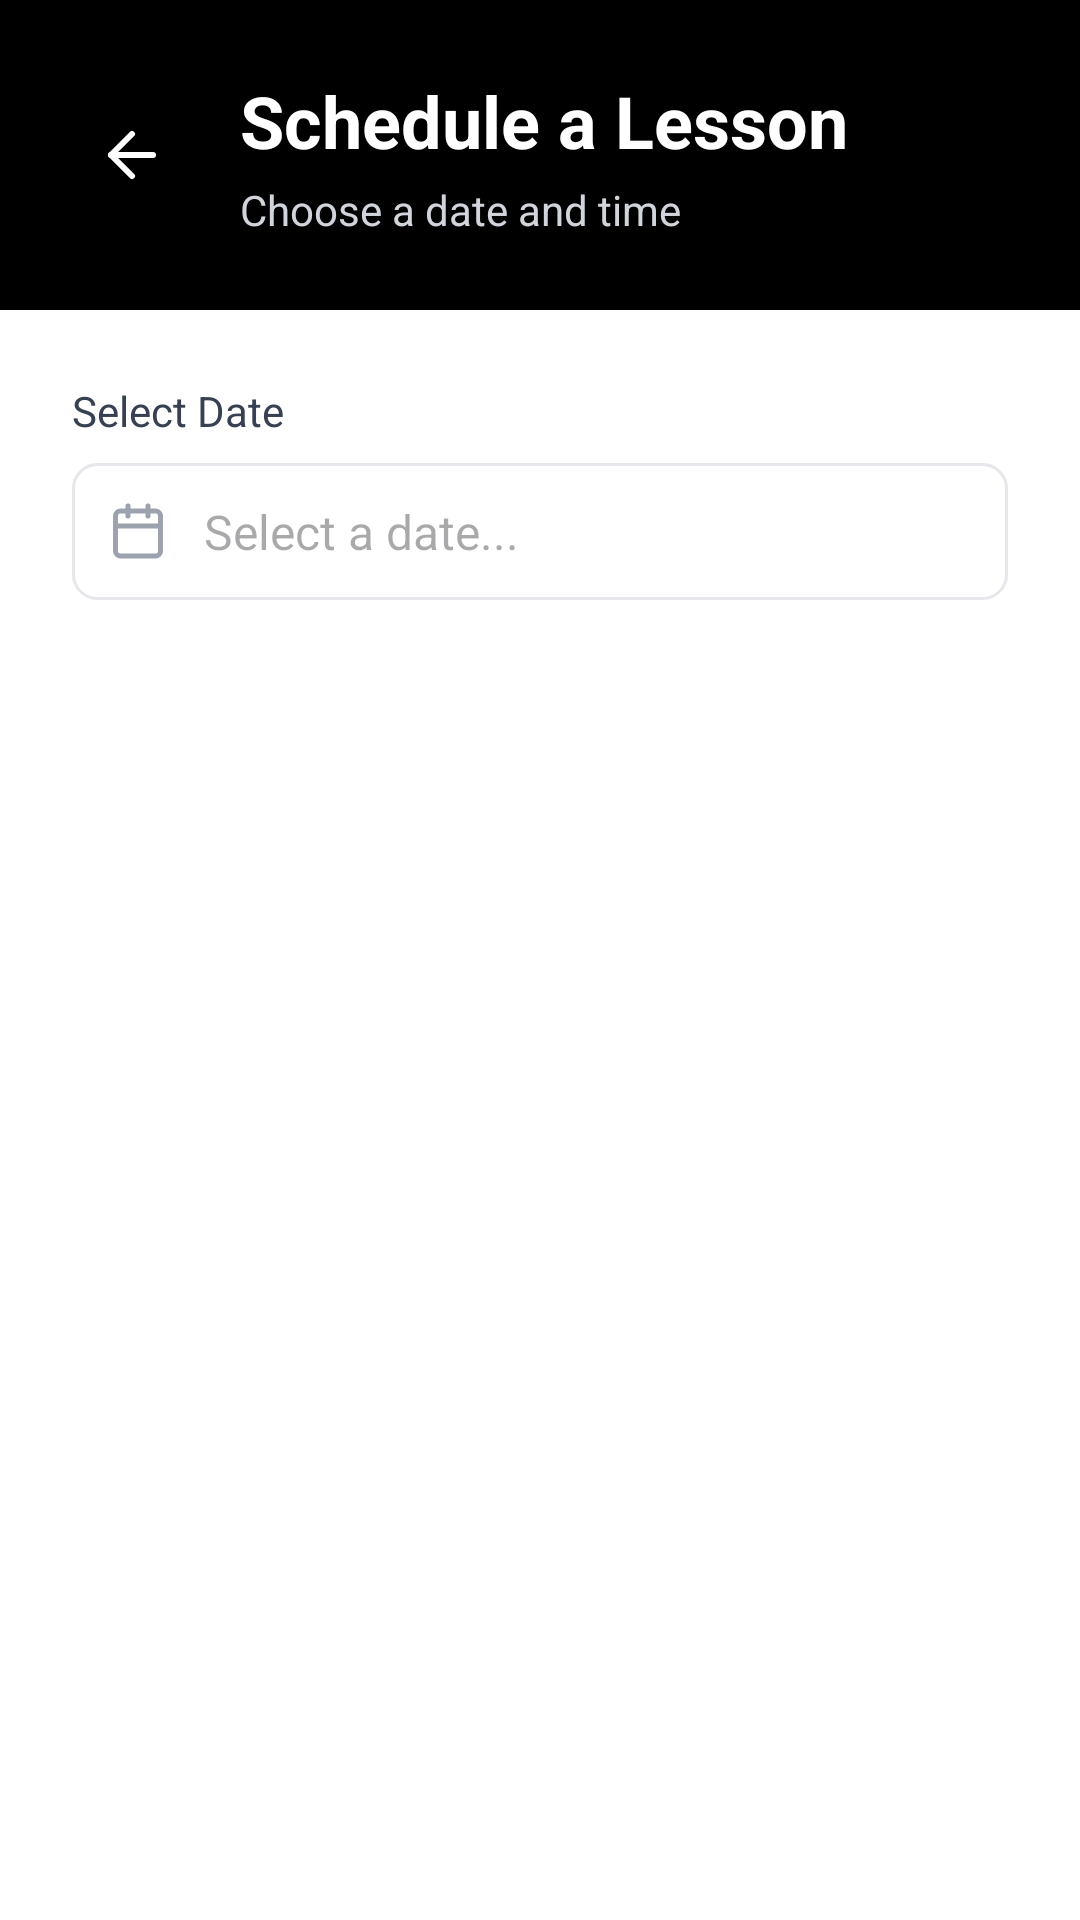

Icons on this 1080*1920 Android screen, each with the point to tap as (x=x, y=y):
Back: (x=132, y=155)
calendar: (x=138, y=531)
